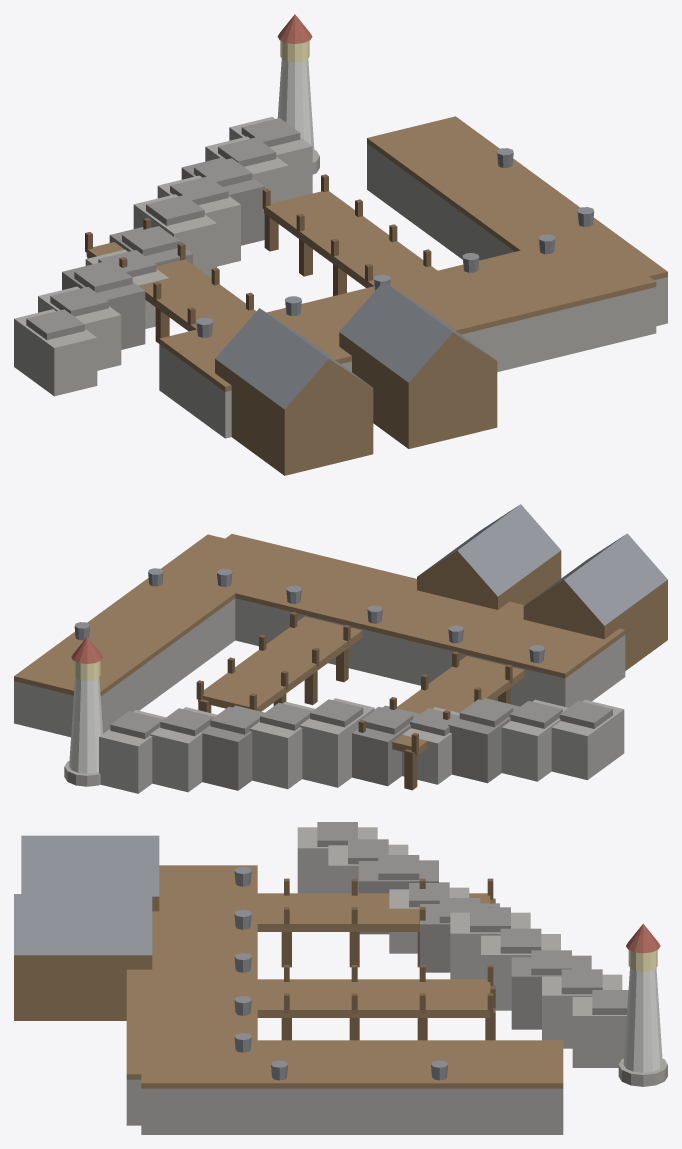
Rendered from Harbor.fbx.
3 views of the same model, one above another, from view 1: azimuth 30°, elevation 25°; view 2: azimuth 150°, elevation 25°; view 3: azimuth 270°, elevation 25° (orthographic). The views are drawn at different scales.
Parts seen in each view (by area): view 1: Harbor; view 2: Harbor; view 3: Harbor.
Boxes of the visible parts, x1,y1,x2,y2 form: Harbor: (14, 14, 667, 475); Harbor: (14, 504, 667, 793); Harbor: (14, 822, 667, 1134).
Size of the model in its own units: 8.44 by 2.32 by 8.99.
